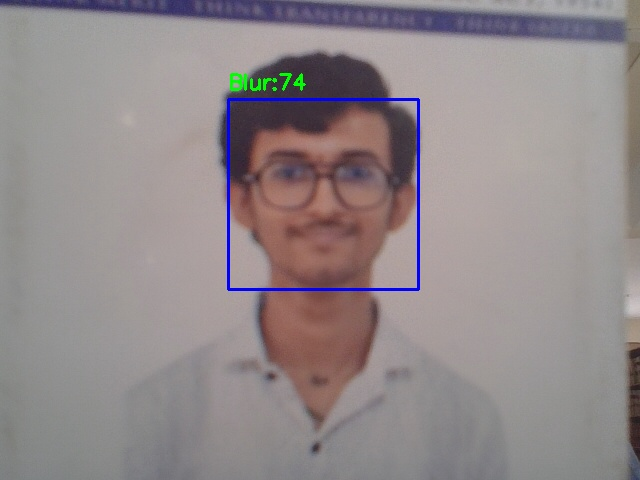fake: (228, 99, 418, 289)
